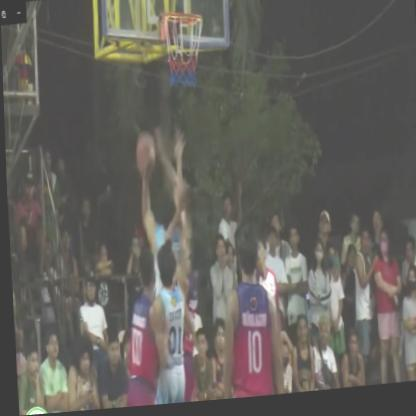basketball: (131, 129, 156, 181)
rim: (159, 5, 207, 104)
